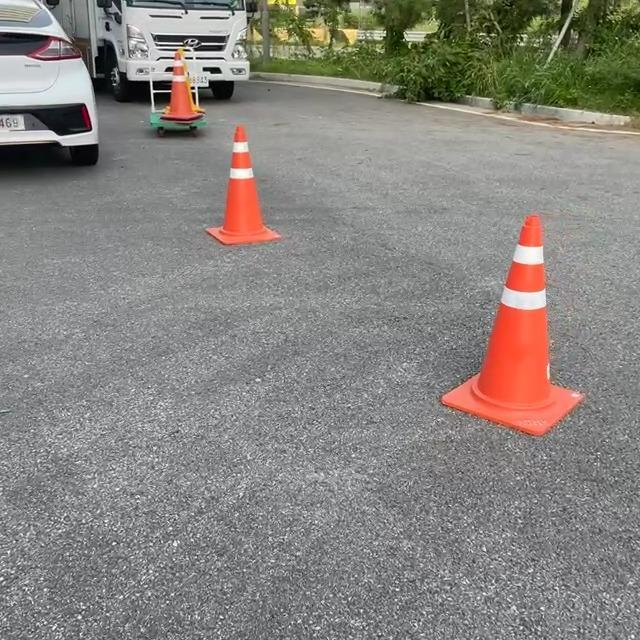fallen_object: (406, 182, 604, 453), (187, 89, 301, 259), (146, 27, 213, 146)
